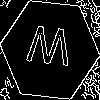W: (25, 25, 72, 76)
